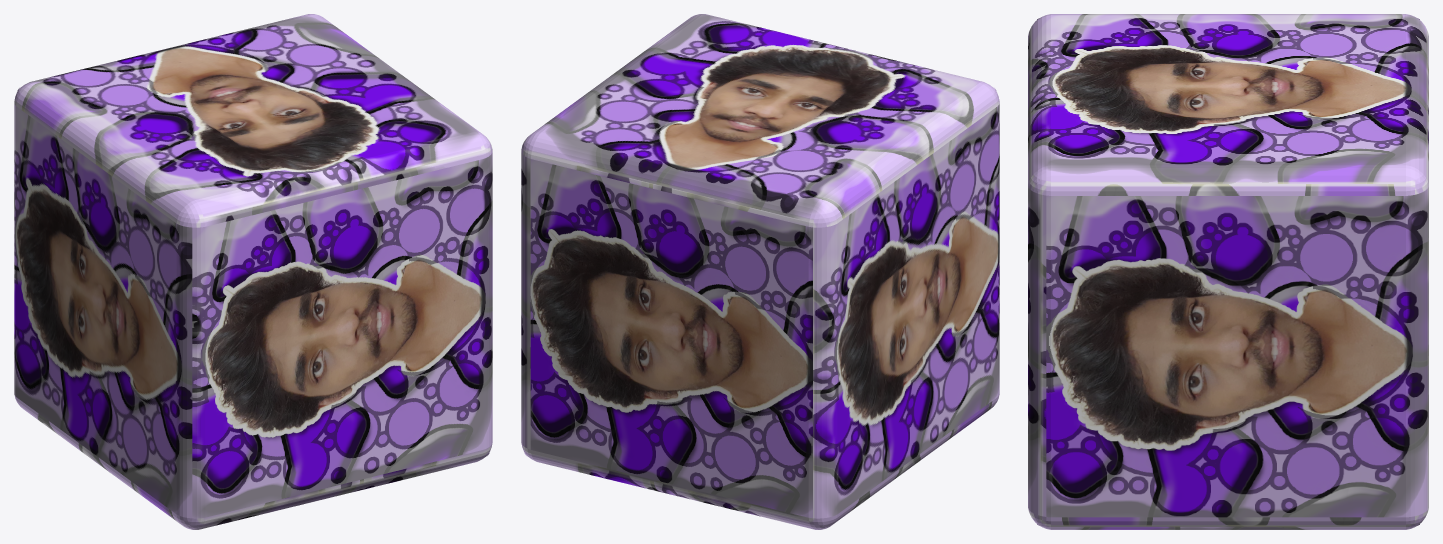
File: Anoop3D.glb
3 renders of one model, left to right at view 1: azimuth 30°, elevation 25°; view 2: azimuth 150°, elevation 25°; view 3: azimuth 270°, elevation 25°, orthographic. The views are drawn at different scales.
Visible parts, largest first — view 1: Cube; view 2: Cube; view 3: Cube.
Part boxes in pixels (x1=…): Cube: x1=14, y1=14, x2=492, y2=529; Cube: x1=521, y1=14, x2=999, y2=529; Cube: x1=1028, y1=14, x2=1428, y2=529.
Bounding box in the file's own units: 2.13 × 2.13 × 2.13.
Materials: 1 (1 with a texture image).
